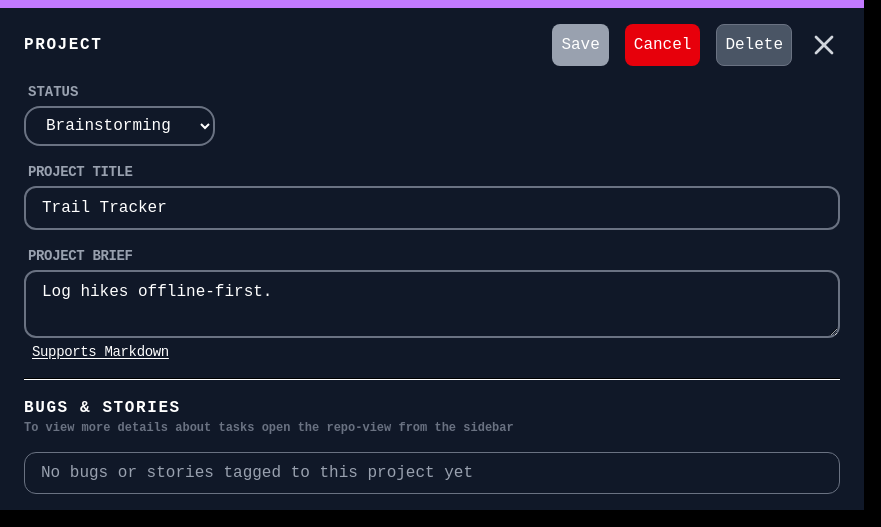
Test case: ProjectCardExpanded — markdown preview › toggles between the description textarea and its markdown preview
Click the button "Supports Markdown" at (100, 352), box [24,342,177,362]
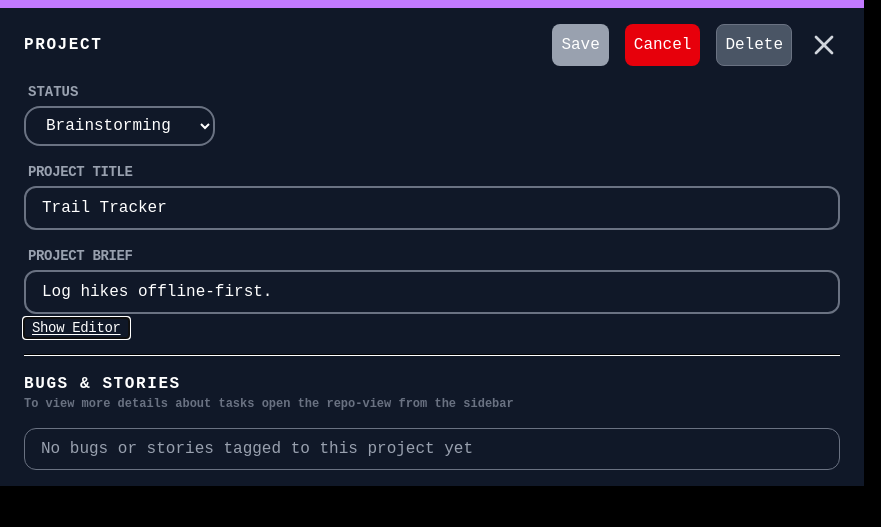
Check: the text "Log hikes offline-first." is shown, box [42,283,272,301]
Click the button "Show Editor" at (76, 328), box [24,318,129,338]
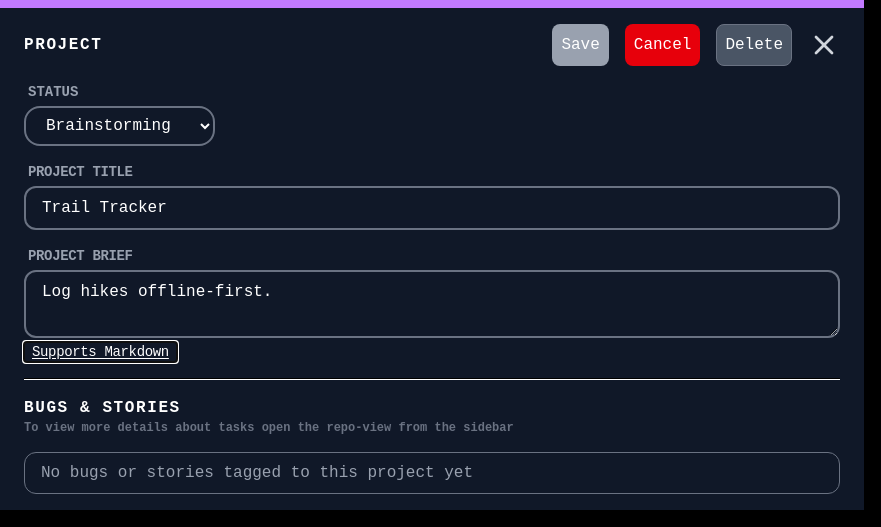
Check: the text box showing "Log hikes offline-first." is shown, box [24,270,840,338]
